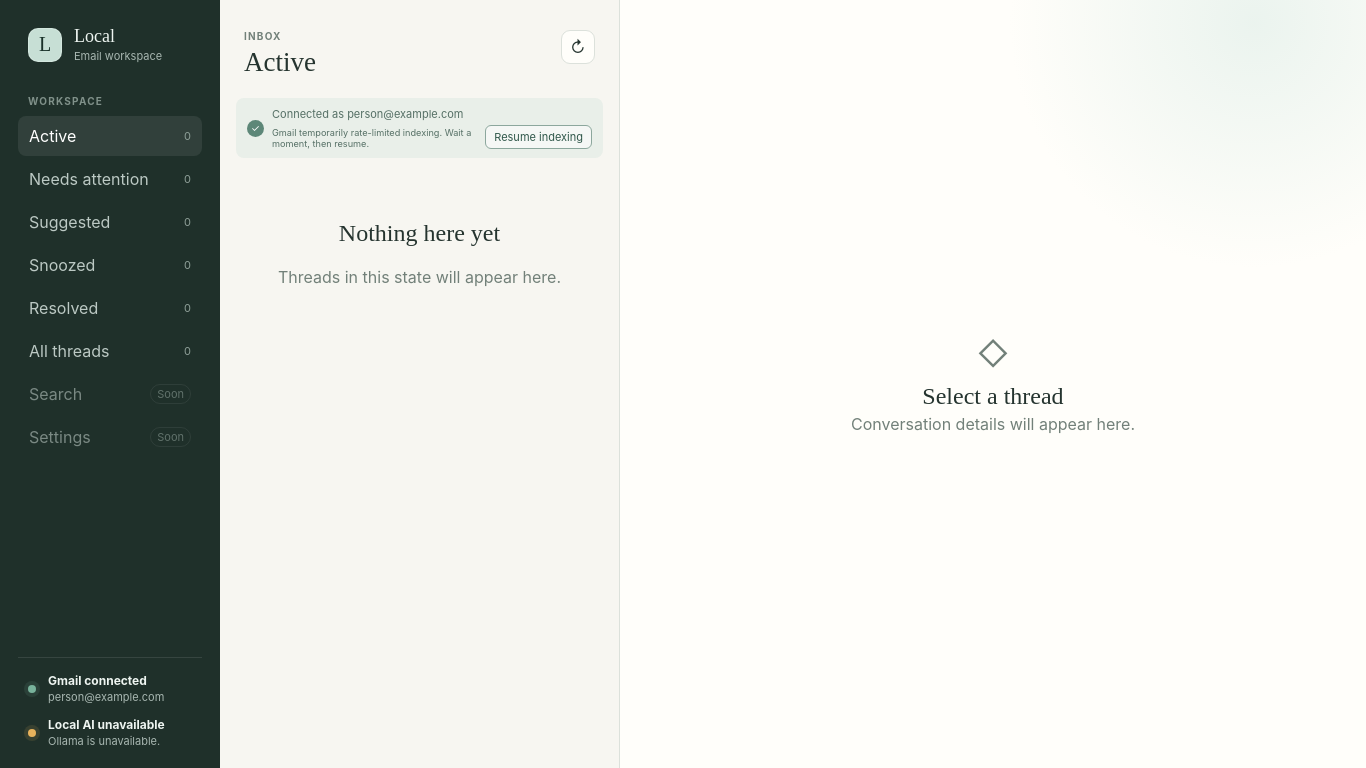
Test: App › resumes mailbox indexing after a rate-limit pause
Check: the text "Gmail temporarily rate-limited indexing. Wait a moment, then resume." is shown, box [272,127,475,149]
Click the button "Resume indexing": [539, 137] box [485,125,592,149]
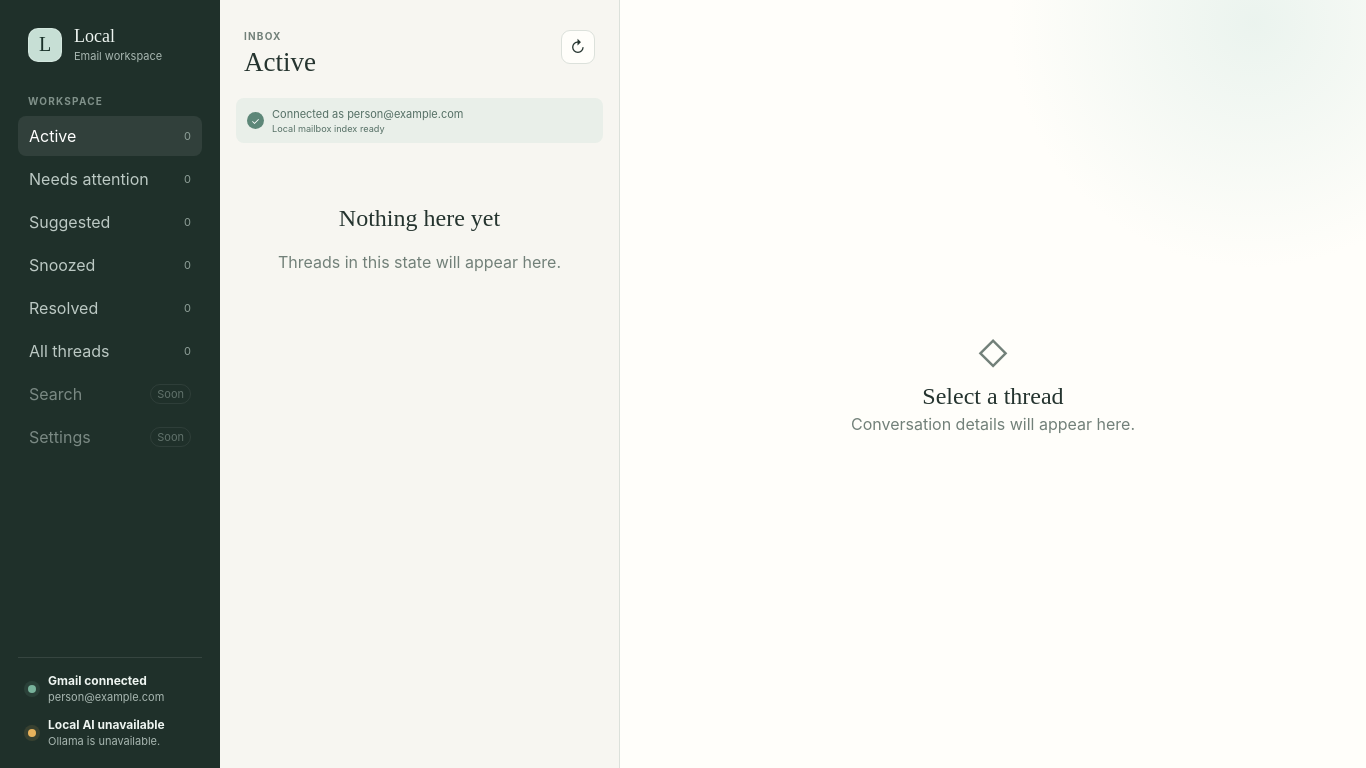
Check: the text "Local mailbox index ready" is shown, box [272,123,385,134]
